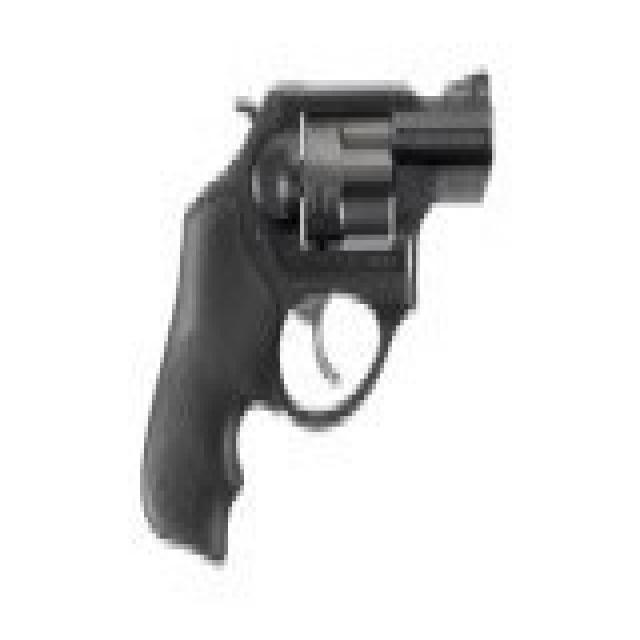Gun: (145, 35, 506, 549)
